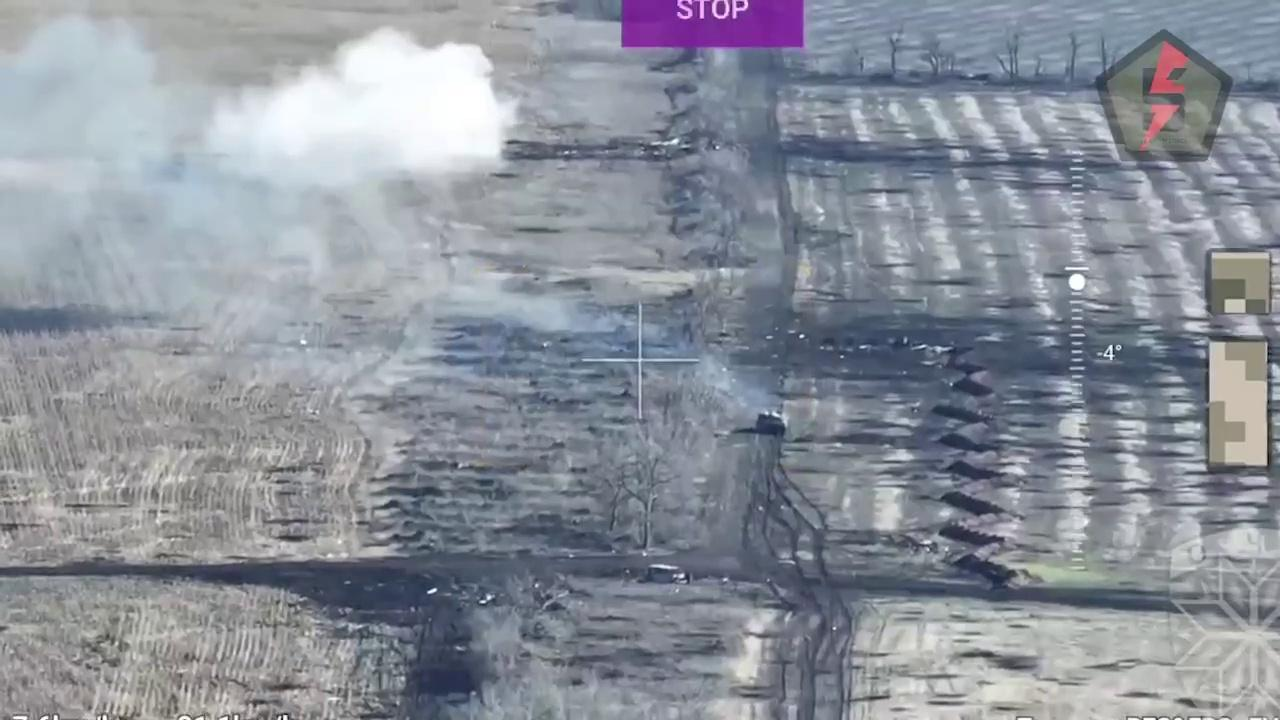trench: (934, 338, 1012, 588)
vehicle: (647, 560, 689, 586), (754, 407, 790, 437)
